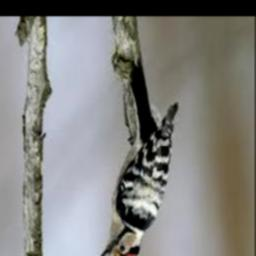Woodpecker: (99, 61, 178, 256)
